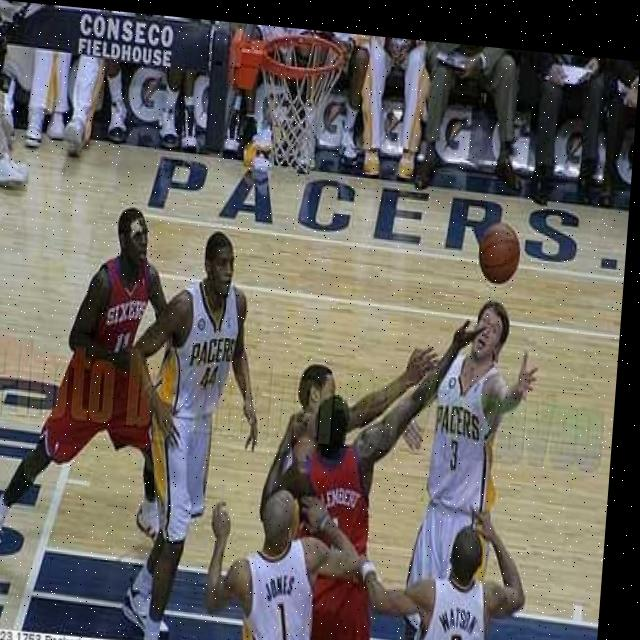basketball: (476, 218, 524, 287)
hoop: (250, 28, 347, 184)
